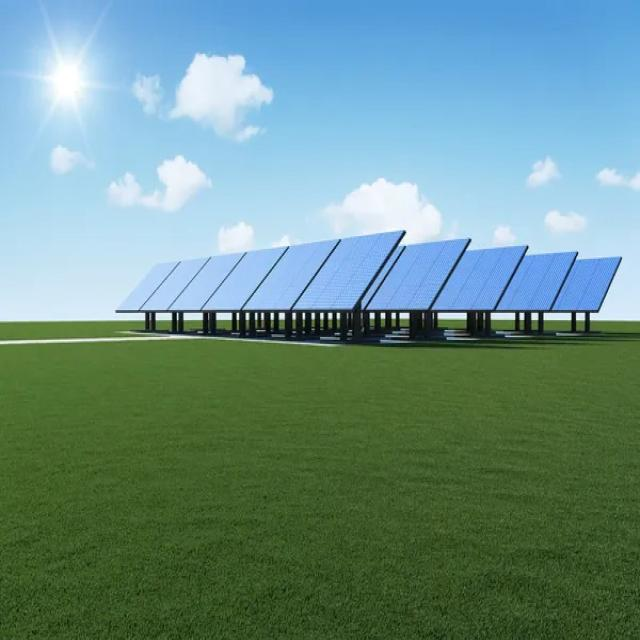clean-solar-panel: (118, 233, 621, 315)
